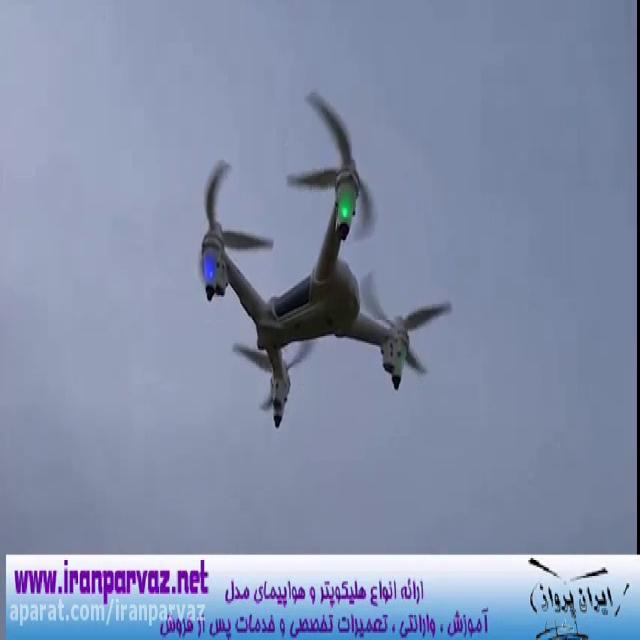drone: (191, 80, 457, 436)
